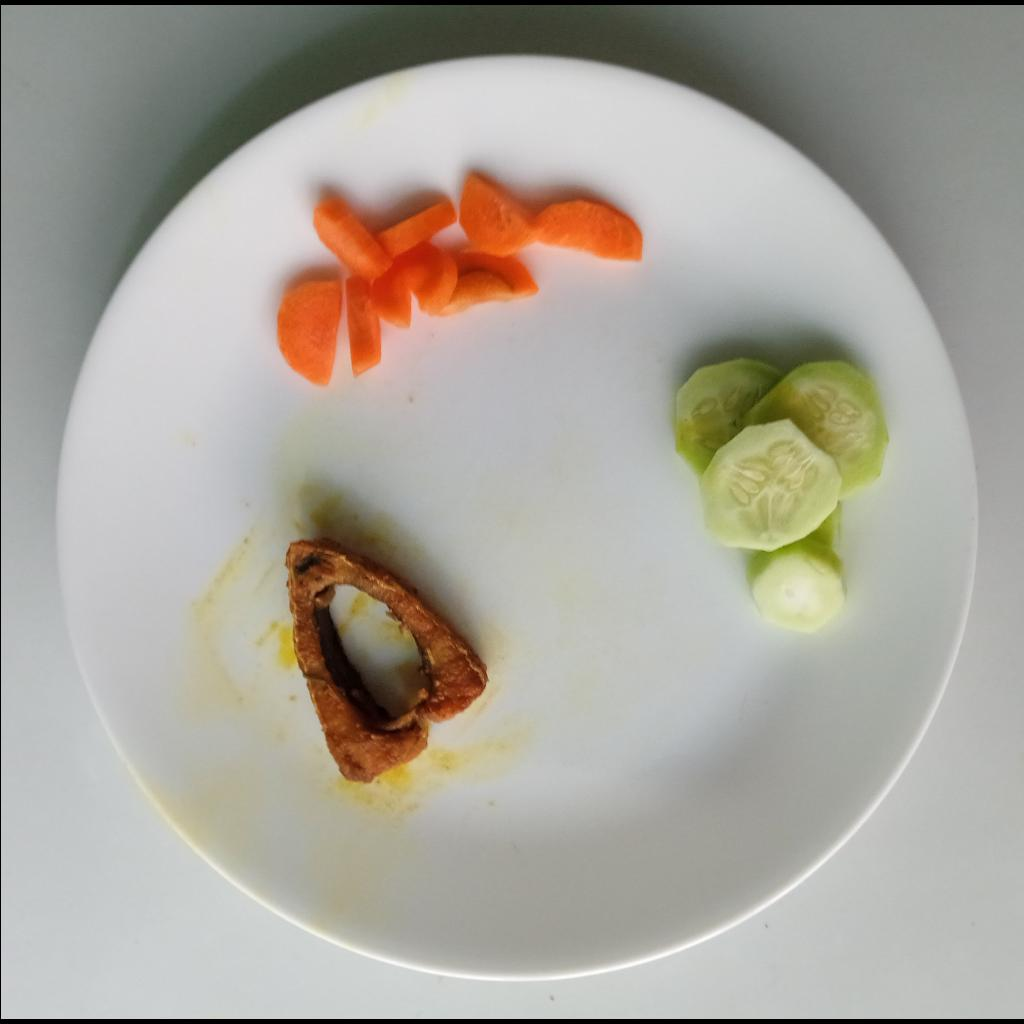carrot: (277, 170, 647, 388)
cucumber: (675, 358, 890, 633)
fish: (280, 539, 488, 785)
